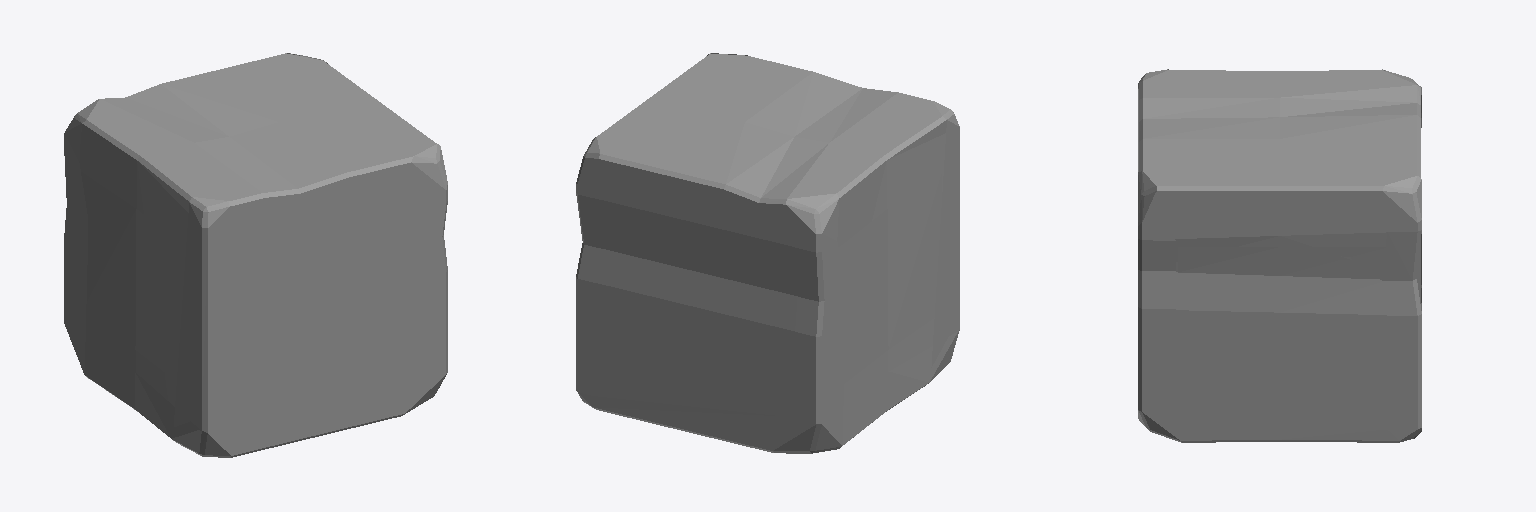
The model's file is box_xxl.obj.
3 views of the same model, side by side, from view 1: azimuth 30°, elevation 25°; view 2: azimuth 150°, elevation 25°; view 3: azimuth 270°, elevation 25° (orthographic).
Visible parts, largest first — view 1: default-default; view 2: default-default; view 3: default-default.
Part boxes in pixels (x1,y1,x2,y2): default-default: (64,53,447,457); default-default: (576,53,959,453); default-default: (1138,69,1421,442).
Size of the model in its own units: 3.37 by 3.37 by 3.36.